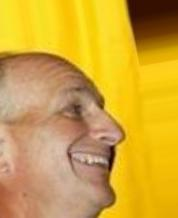face: (55, 84, 125, 179)
